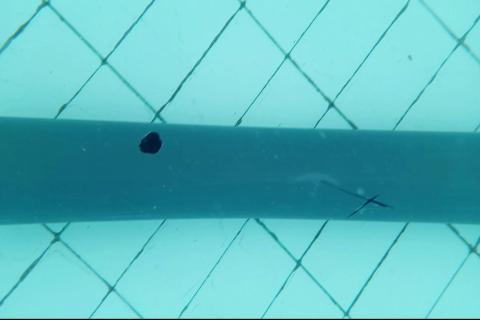kebocoran: (139, 128, 163, 156)
keretakan: (321, 178, 392, 217)
